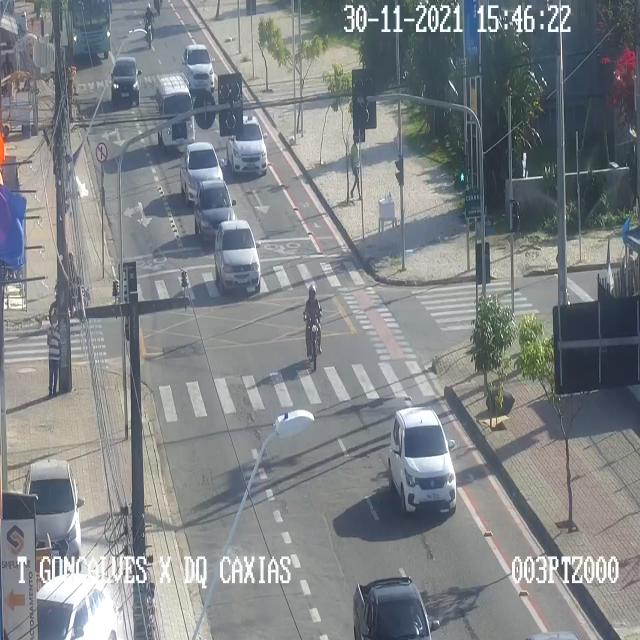Bus: (68, 0, 115, 63)
Car: (388, 406, 456, 511), (24, 460, 80, 570), (36, 573, 116, 639), (353, 576, 431, 639), (214, 220, 260, 290), (156, 76, 194, 150), (179, 141, 223, 200), (194, 180, 234, 240), (226, 115, 266, 173), (182, 44, 214, 92), (111, 56, 139, 105)
Motorcycle: (48, 251, 88, 326), (302, 283, 322, 369), (144, 3, 154, 48), (152, 0, 167, 17)
